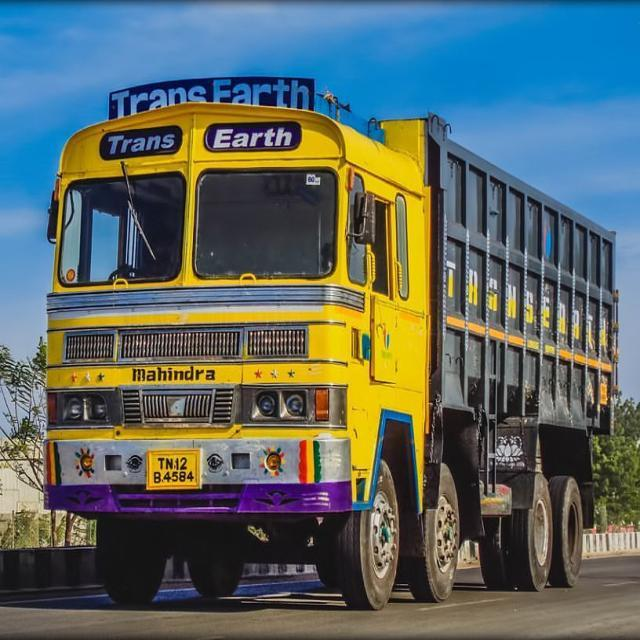Truck: (39, 73, 621, 618)
